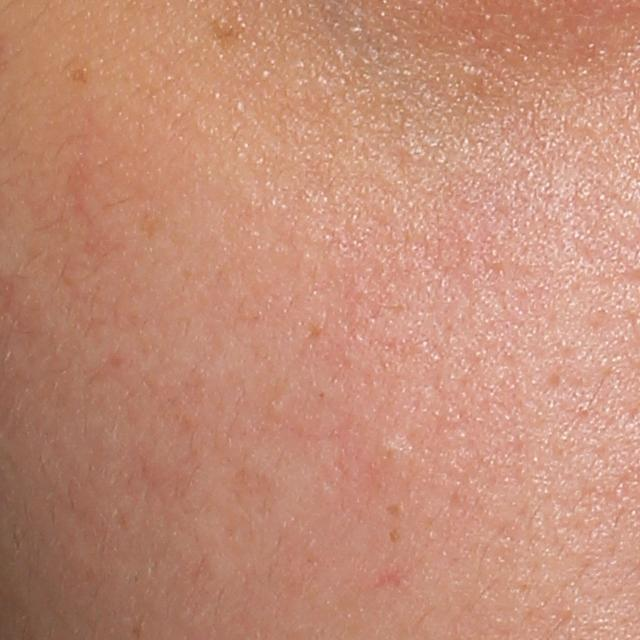comedo: (379, 438, 402, 458)
melasma: (208, 14, 244, 44), (66, 65, 92, 87)
